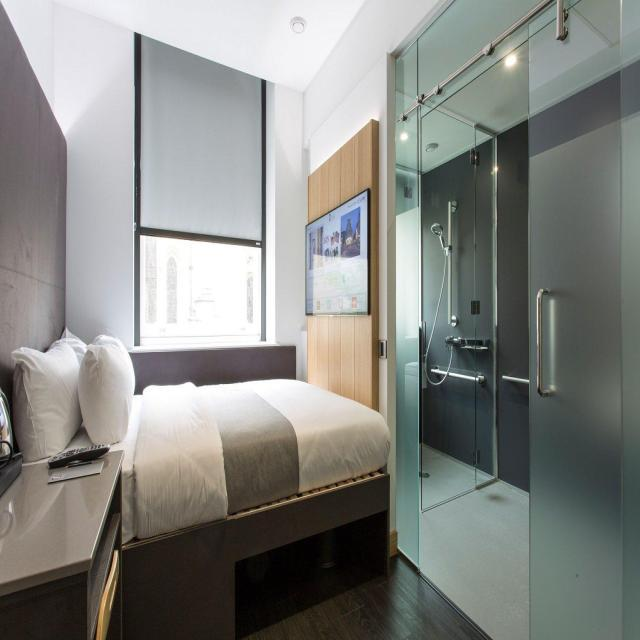bed: (9, 330, 392, 638)
